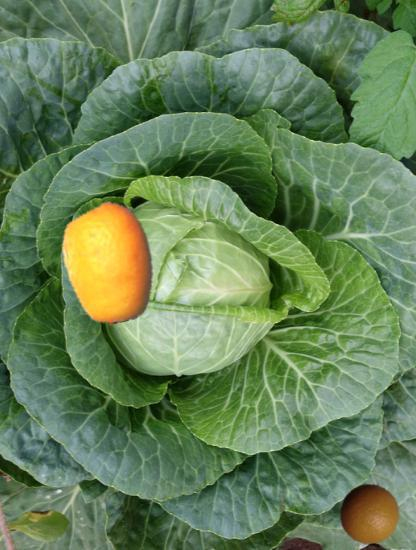Kumquats: (48, 203, 170, 325)
Orange: (339, 482, 401, 544)
